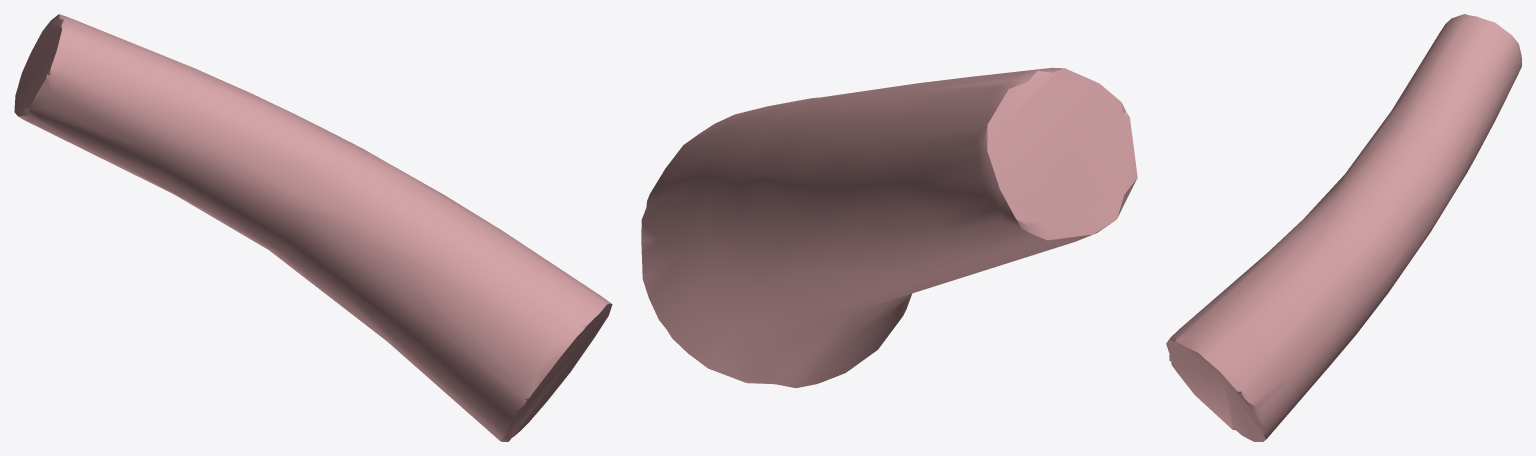
The model's file is fma68215_fj2505.glb.
3 renders of one model, left to right at view 1: azimuth 30°, elevation 25°; view 2: azimuth 150°, elevation 25°; view 3: azimuth 270°, elevation 25°, orthographic. The views are drawn at different scales.
Visible parts, largest first — view 1: FMA68215_FJ2505; view 2: FMA68215_FJ2505; view 3: FMA68215_FJ2505.
Part boxes in pixels (x1,y1,x2,y2): FMA68215_FJ2505: [14, 14, 612, 441]; FMA68215_FJ2505: [641, 67, 1137, 387]; FMA68215_FJ2505: [1166, 14, 1521, 441].
Size of the model in its own units: 0.0114 by 0.00943 by 0.01.
